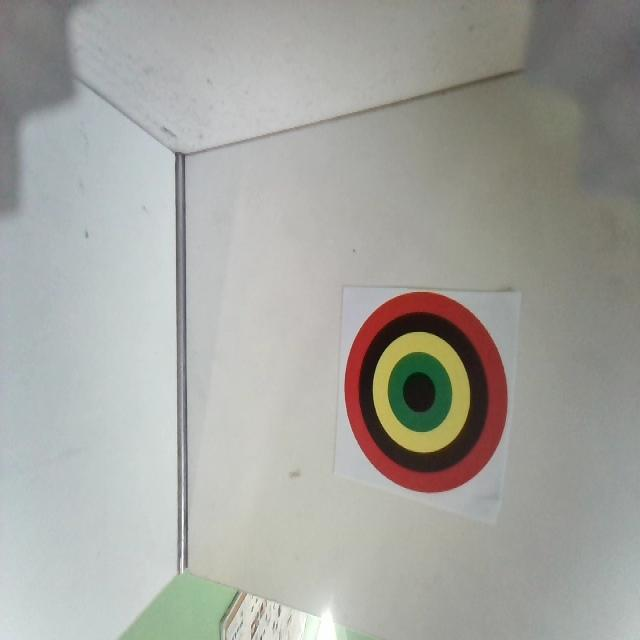cogn: (344, 291, 507, 494)
